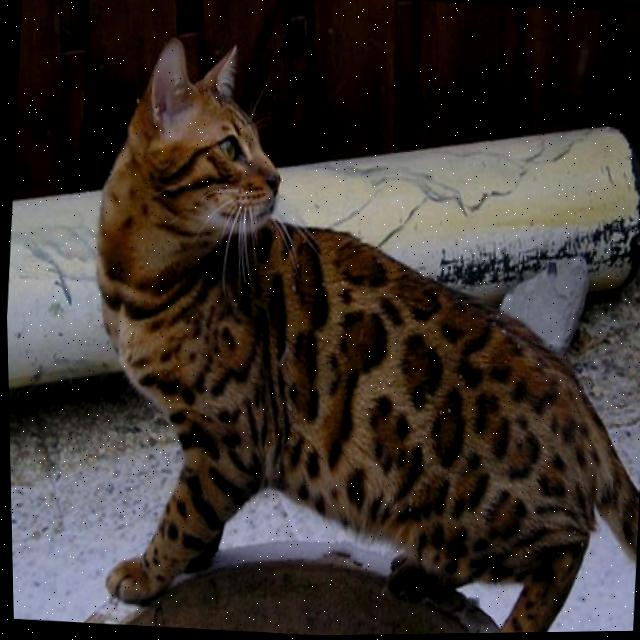Bengal: (48, 21, 640, 639)
